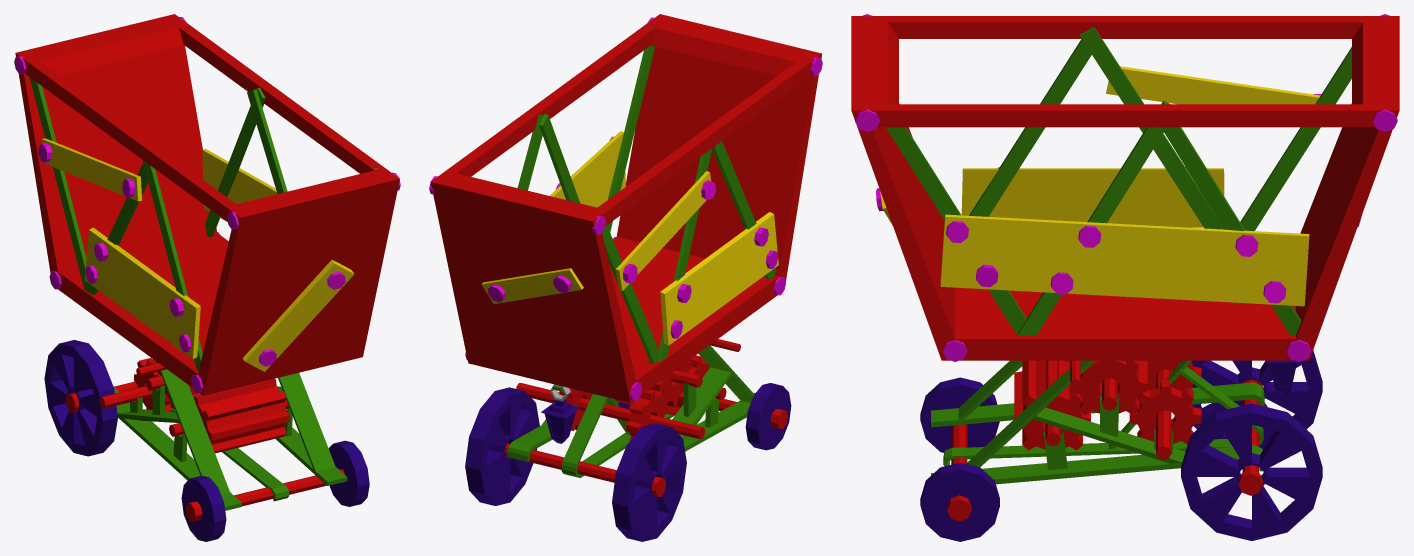
The model's file is MD_wagon_vide.fbx.
3 renders of one model, left to right at view 1: azimuth 30°, elevation 25°; view 2: azimuth 150°, elevation 25°; view 3: azimuth 270°, elevation 25°, orthographic. The views are drawn at different scales.
Visible parts, largest first — view 1: wagon; view 2: wagon; view 3: wagon.
Part boxes in pixels (x1=…): wagon: x1=14, y1=14, x2=400, y2=541; wagon: x1=429, y1=14, x2=822, y2=541; wagon: x1=851, y1=14, x2=1399, y2=541.
Bounding box in the file's own units: 1.52 × 2.87 × 3.29.
